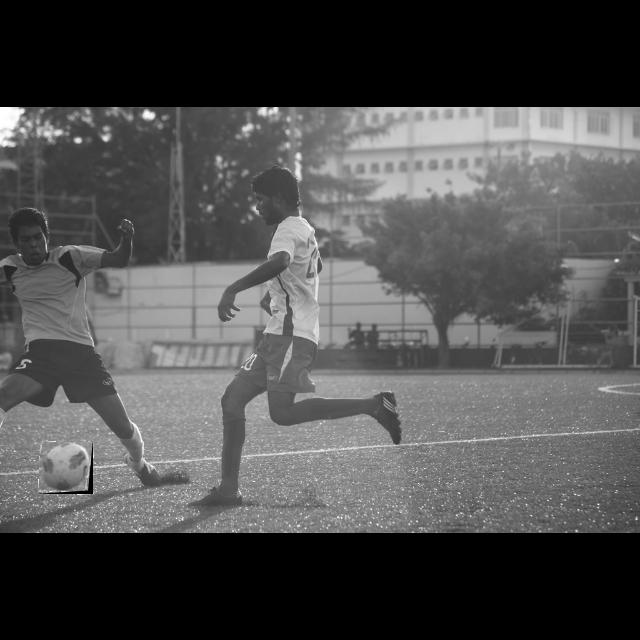Football: (39, 442, 93, 494)
